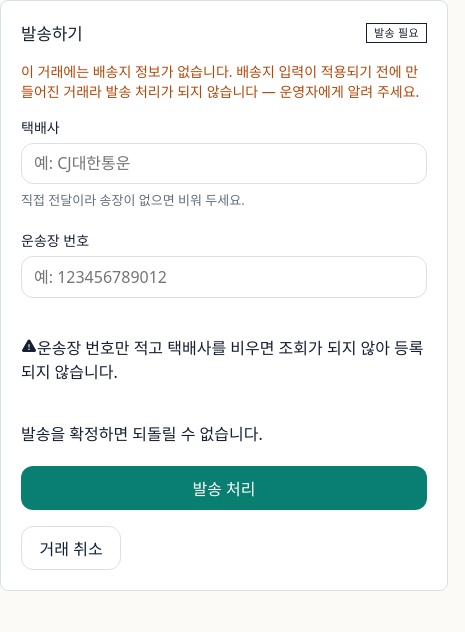
it: ShipmentPanel › 택배사 없이 운송장만 입력하면 막는다
Type "123456789012" into the field labelled "운송장 번호" at (224, 277), box x1=21 y1=256 x2=427 y2=298
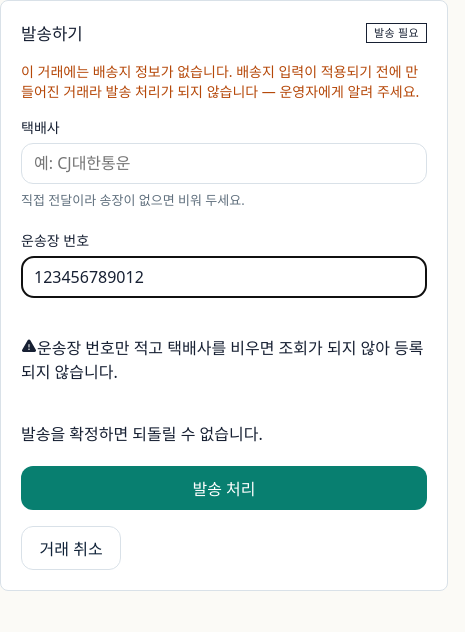
Click the button "발송 처리" at (224, 488), box x1=21 y1=466 x2=427 y2=510
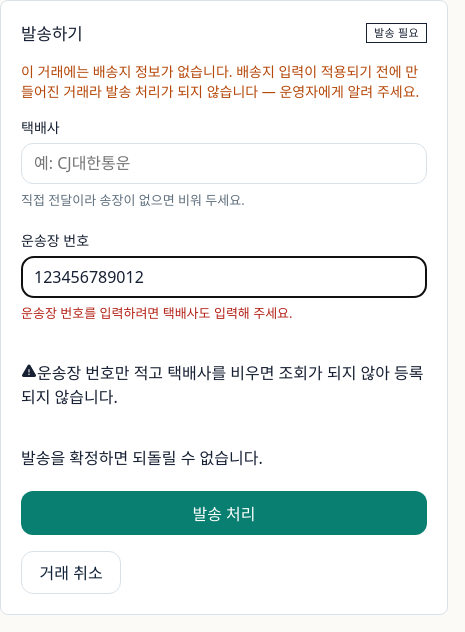
expect the message shows "택배사도 입력": met, box x1=21 y1=304 x2=292 y2=322
